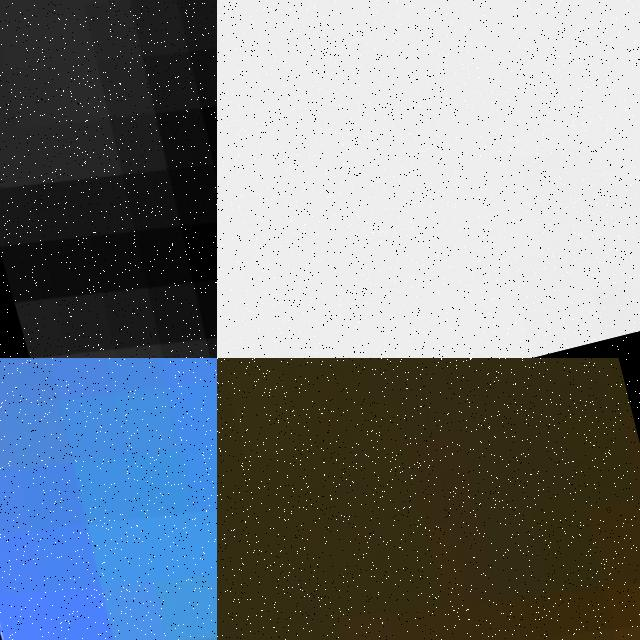0: (0, 0, 217, 358)
drone: (217, 358, 640, 640), (0, 358, 217, 640)
